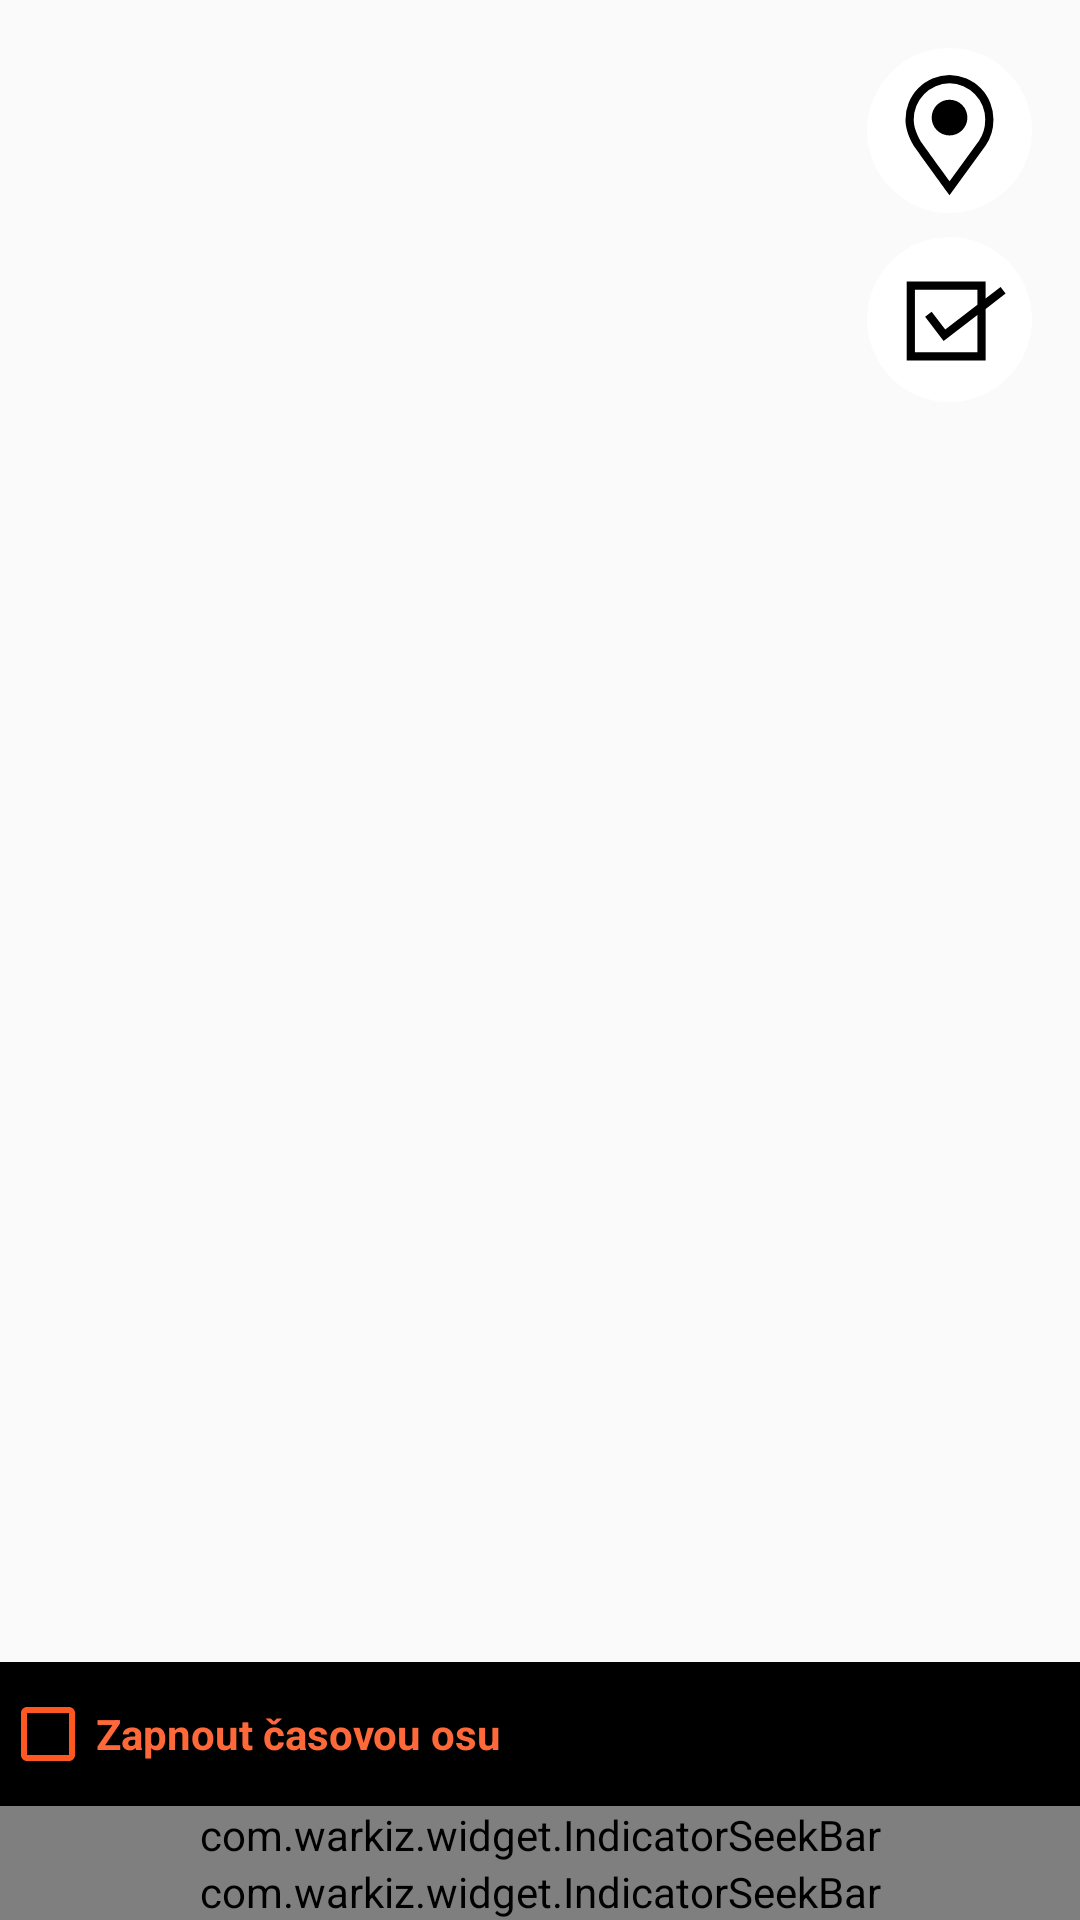

Screen size 1080 × 1920. Icon name, then its box in pixels as [x1, y1, x2, y2]:
poloha pasivni: [905, 75, 994, 195]
